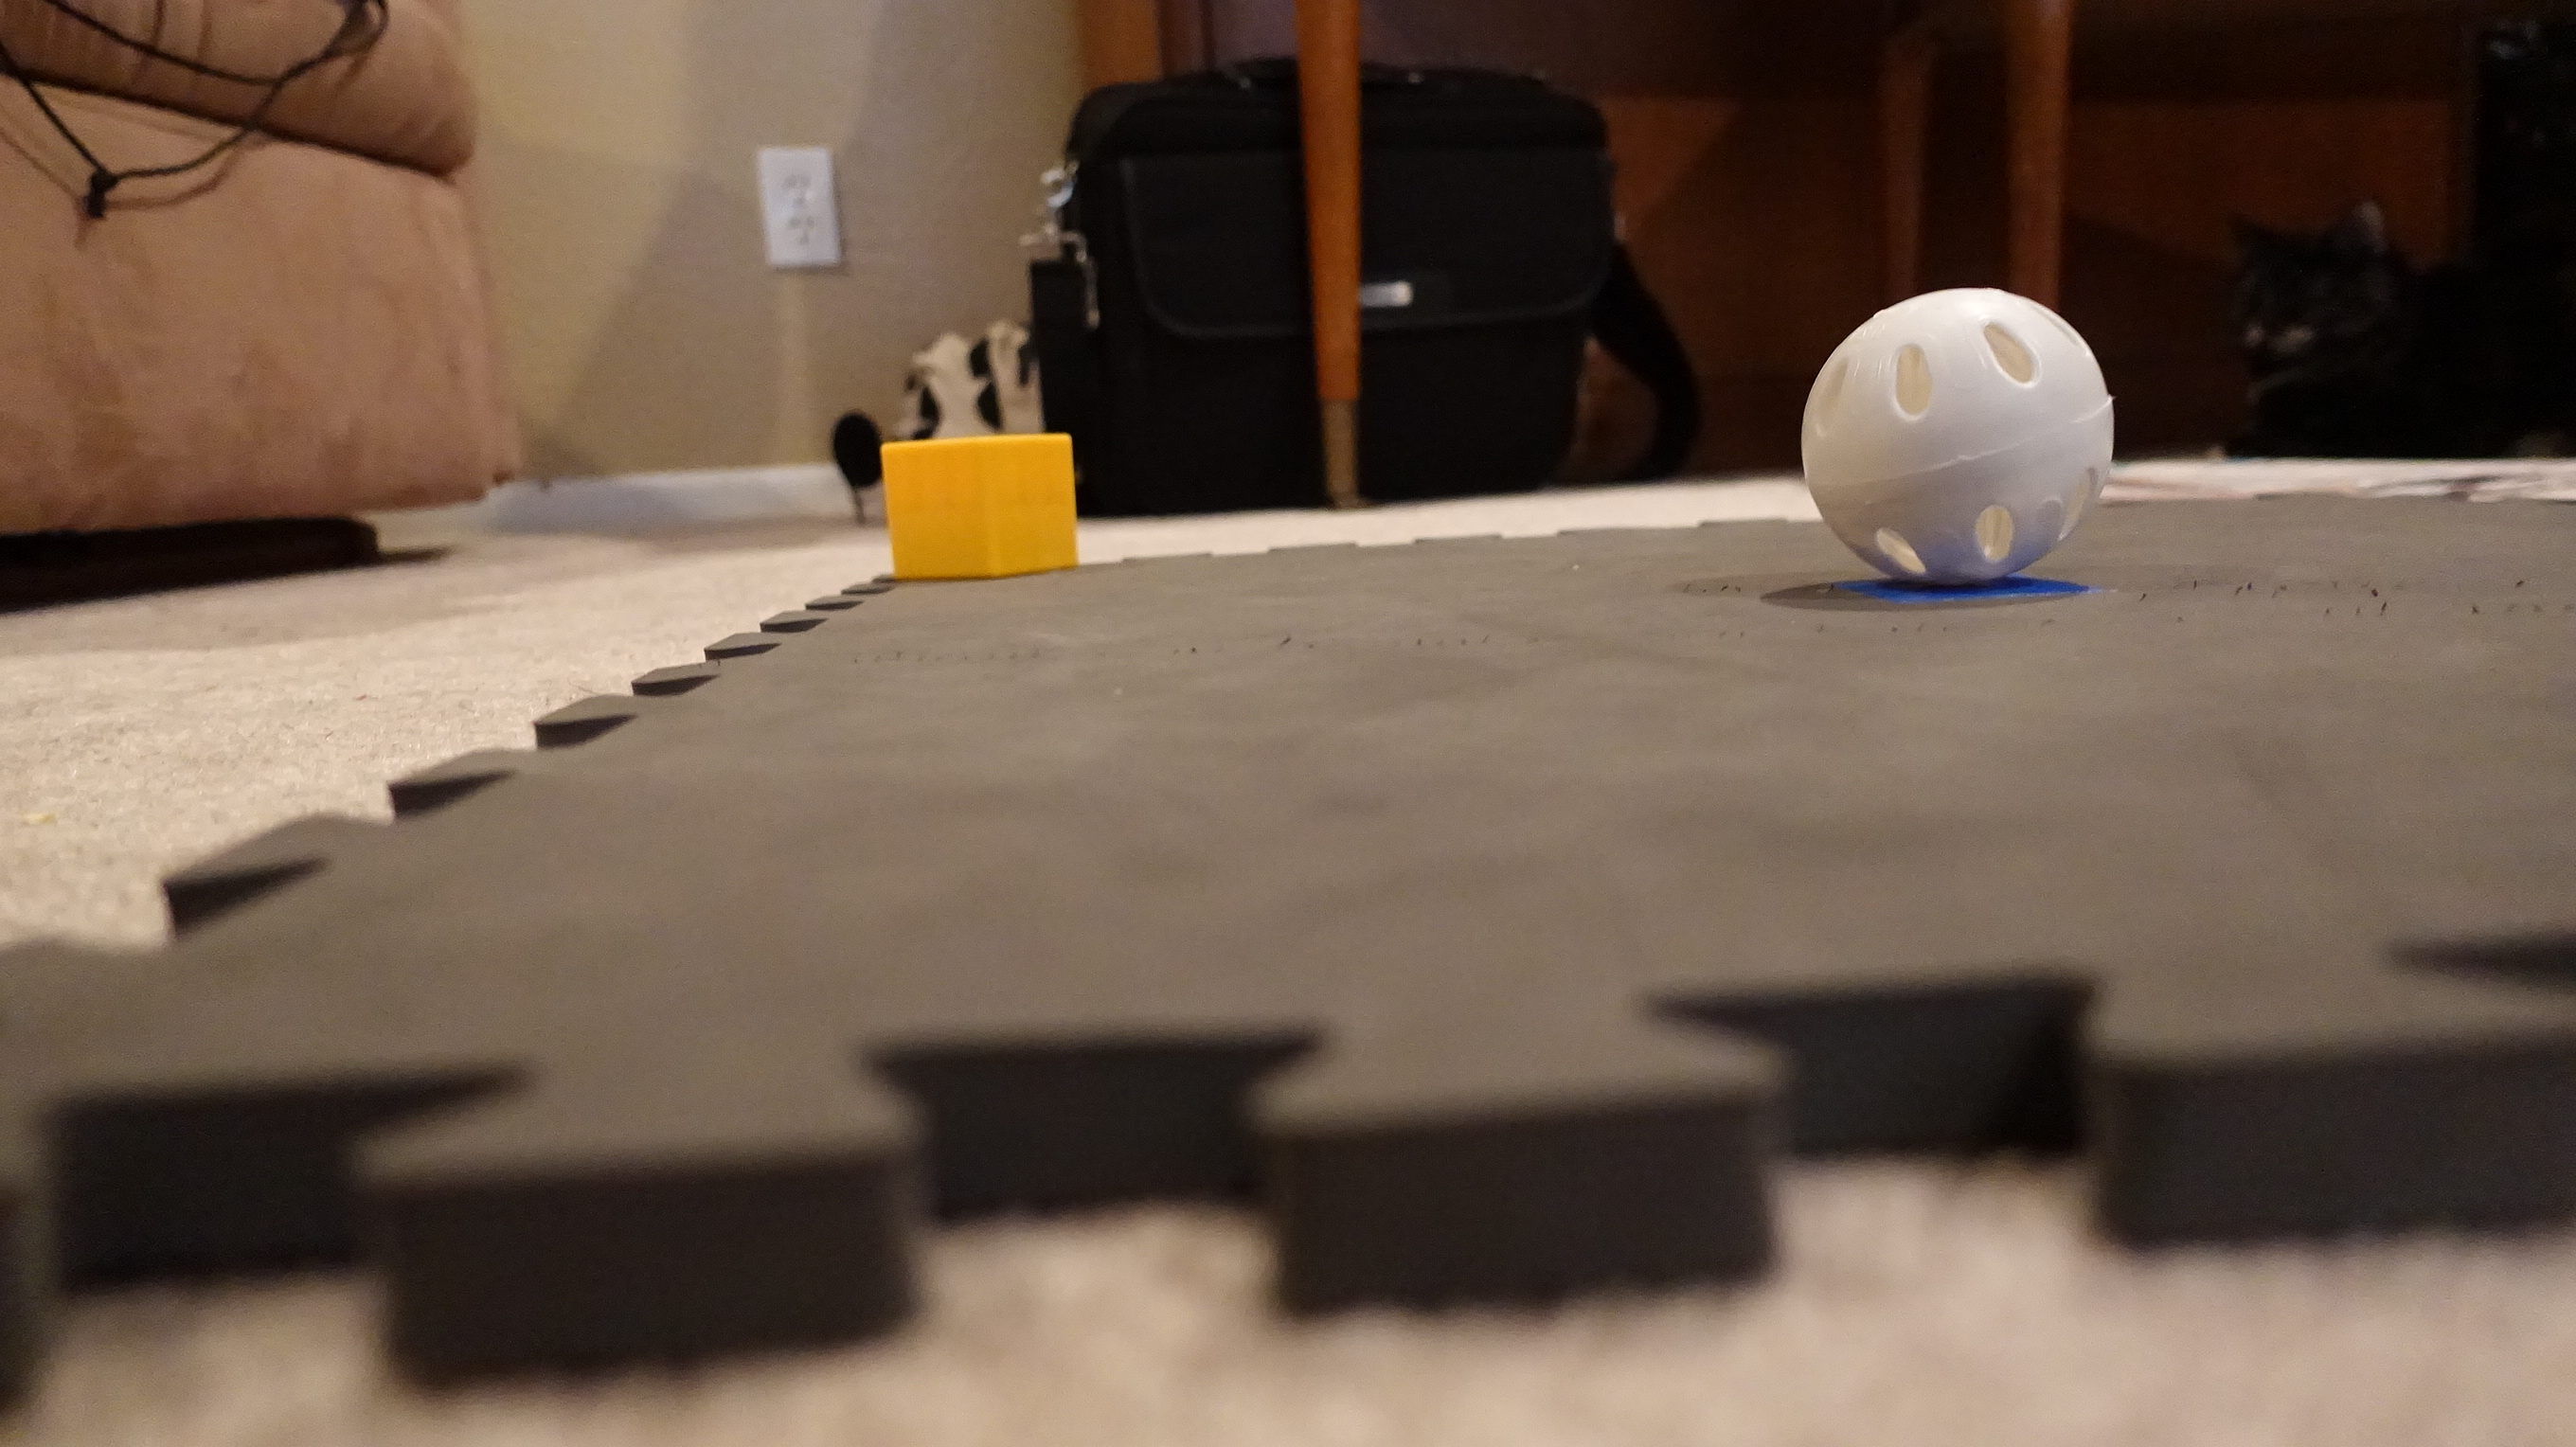gold: (860, 421, 1097, 596)
silver: (1778, 276, 2146, 607)
